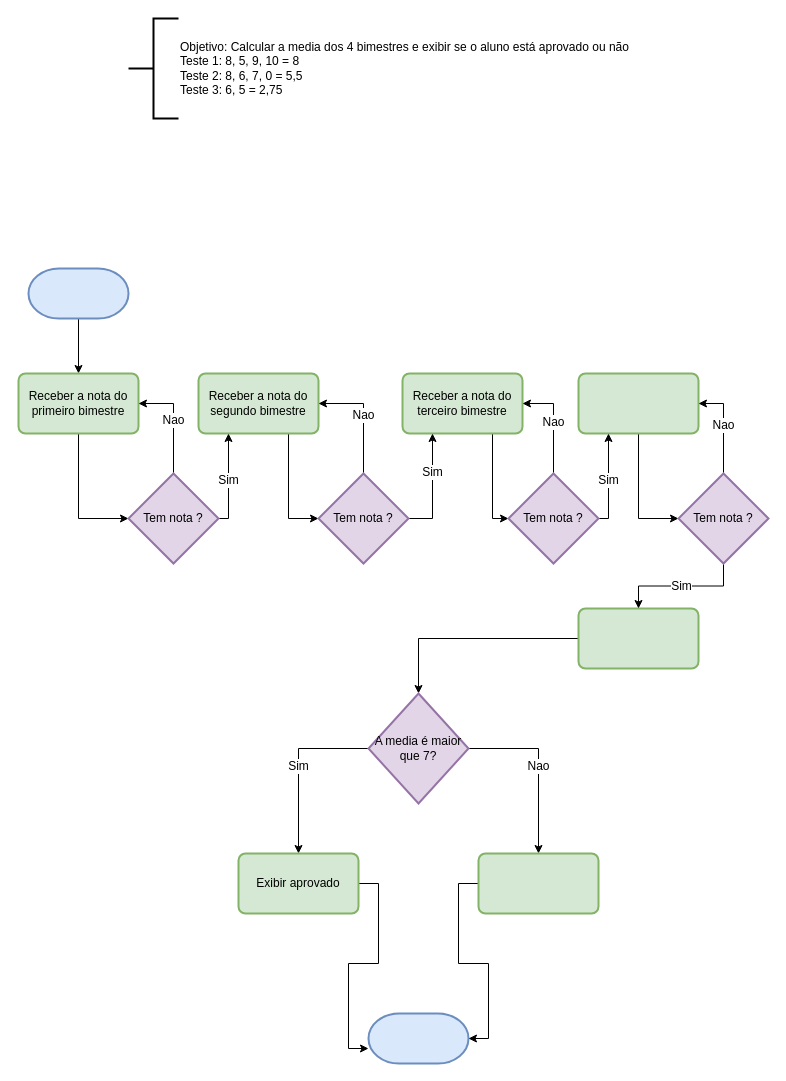
This 786x1081 diagram has some shape labels left out. The centre of each missing label's shape, as x and y in pixels:
"Exibir reprovado" goes at point 538,883.
"Fim" goes at point 418,1038.
"Inicio" goes at point 78,293.
"Receber a nota do quarto bimestre" goes at point 638,403.
"Somas as quatro notas e dividir por quatro" goes at point 638,638.
